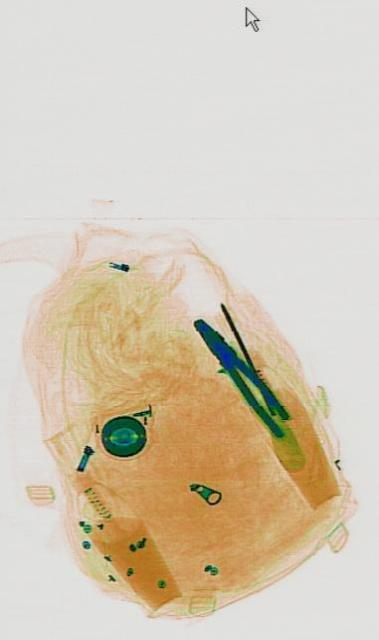Pliers: (187, 303, 290, 442)
